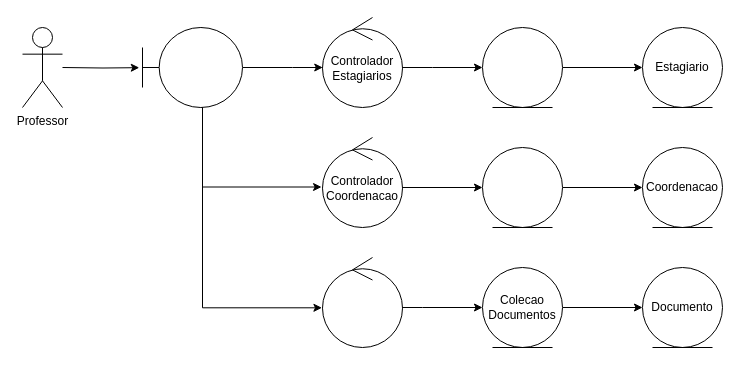
This 740x365 diagram has some shape labels left out. Here are the shapes that lost their labels. From the top down, the box of each, then its label:
(142, 26, 242, 108): Tela Orientacoes Estagio
(482, 26, 562, 108): Colecao Estagiarios
(482, 146, 562, 228): Colecao Coordenacao
(322, 256, 402, 348): Controlador Documentos
